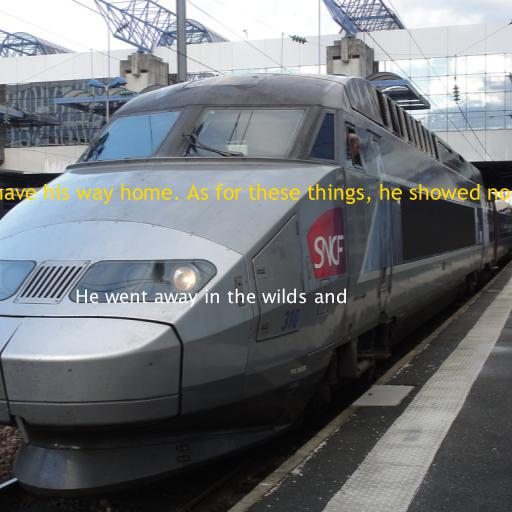Lucida Grande: (74, 288, 348, 307)
Trebuchet MS: (0, 183, 512, 205)
